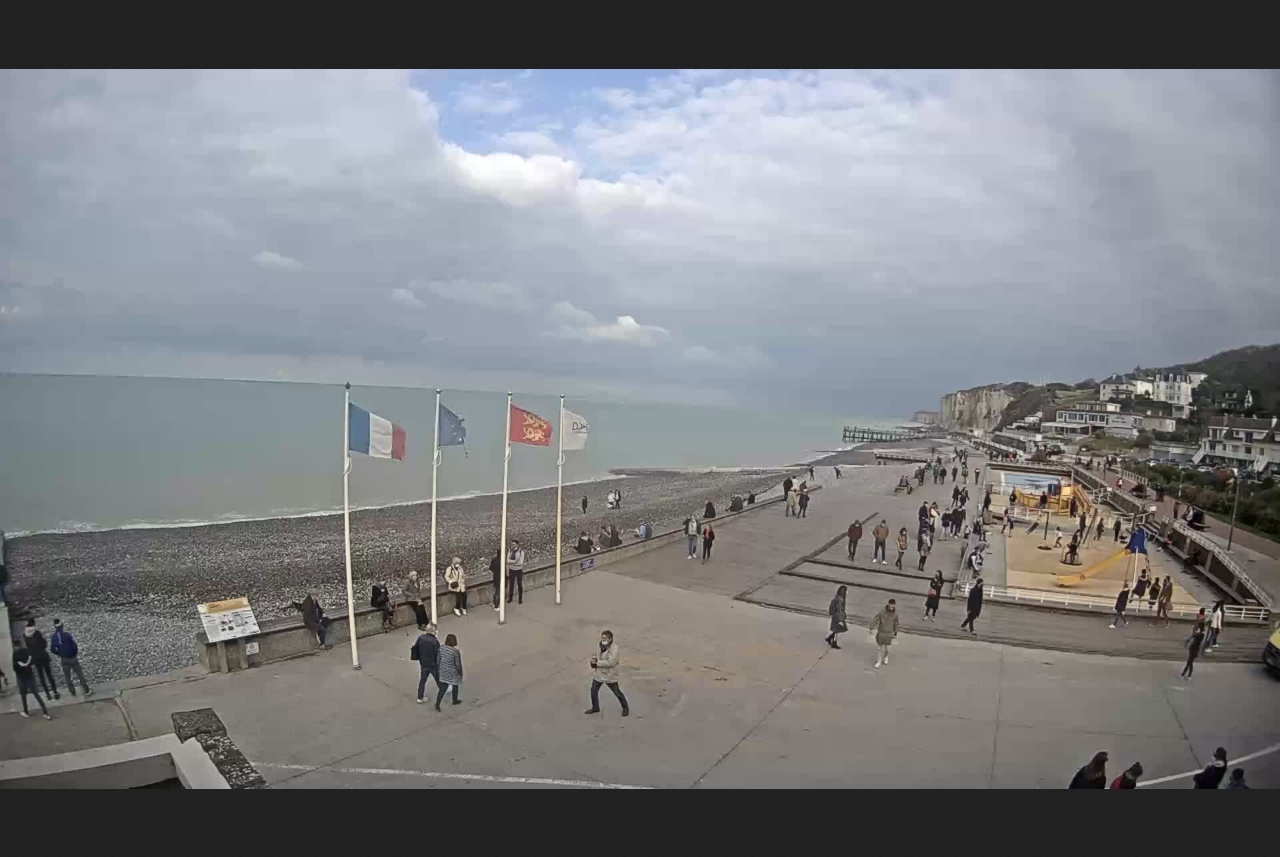maybe: (429, 390, 473, 454)
yes: (336, 389, 414, 464), (499, 394, 557, 453), (554, 399, 595, 455)
